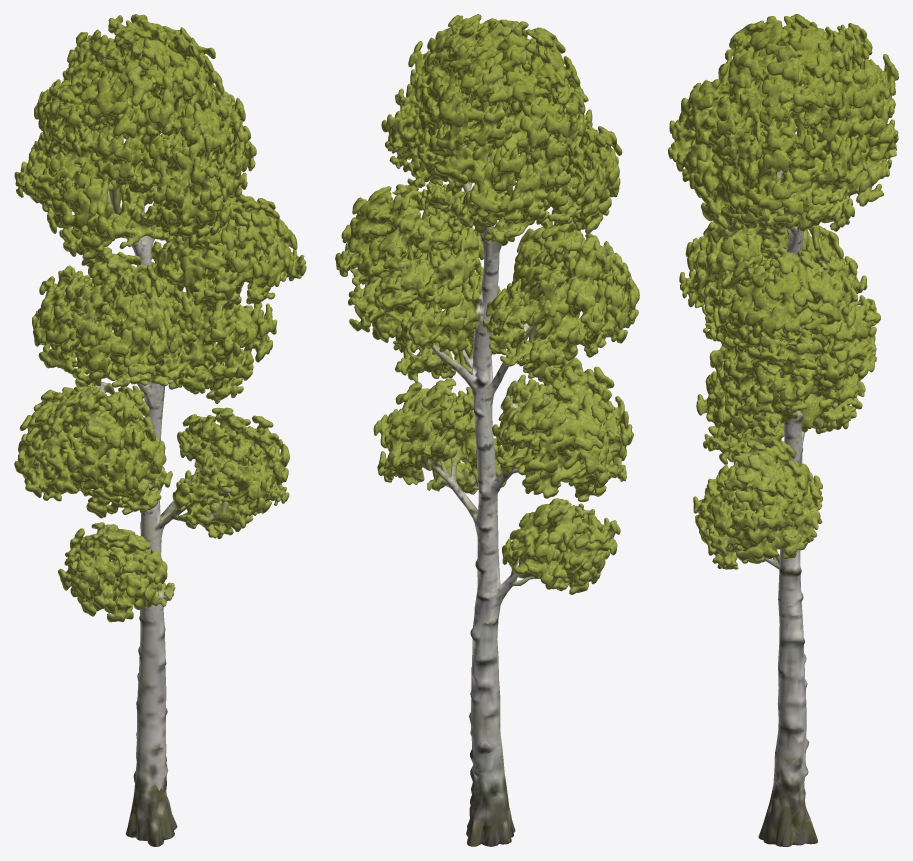
The model's file is abedul.glb.
The picture shows the model from 3 angles, left to right: view 1: azimuth 30°, elevation 25°; view 2: azimuth 150°, elevation 25°; view 3: azimuth 270°, elevation 25°; orthographic projection. The views are drawn at different scales.
Parts seen in each view (by area): view 1: aligerado; view 2: aligerado; view 3: aligerado.
Part boxes in pixels (box(x1,y1,x2,y2)): aligerado: box(14, 14, 306, 846); aligerado: box(335, 14, 639, 846); aligerado: box(668, 14, 898, 846).
Bounding box in the file's own units: 3.21 × 9 × 2.3.
Materials: 1 (1 with a texture image).
